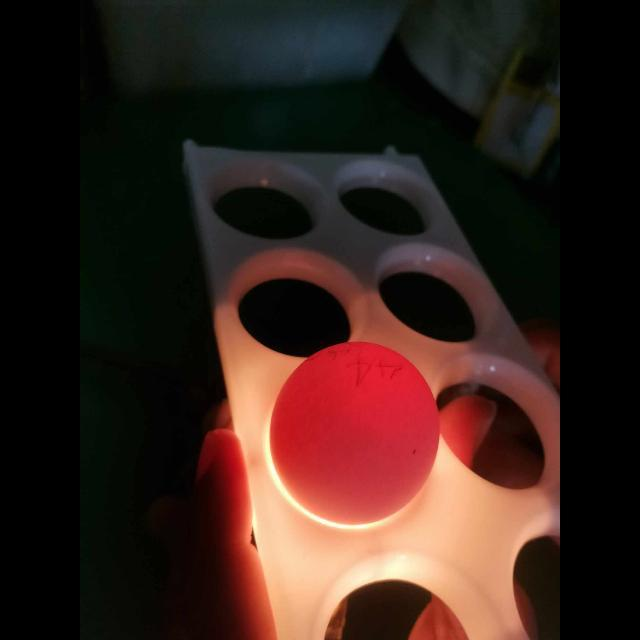Infertile: (270, 340, 440, 528)
